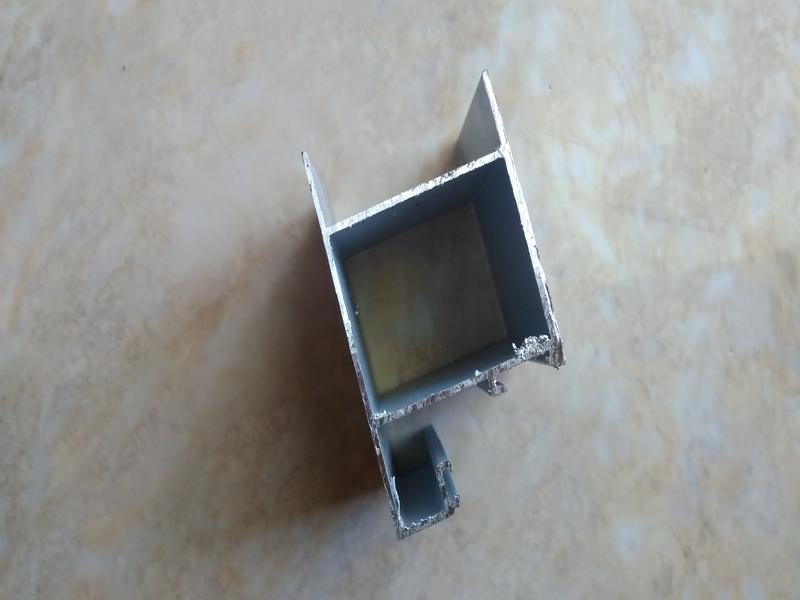Aluminium_2: (233, 59, 658, 560)
